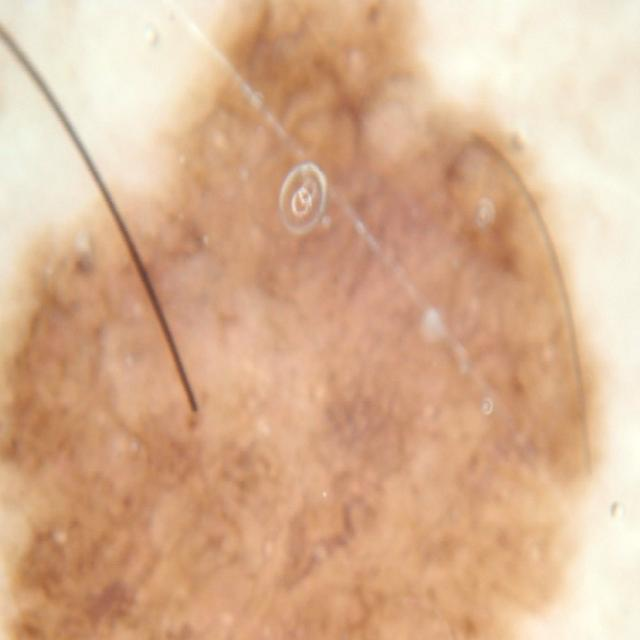Melanoma: (0, 85, 623, 640)
